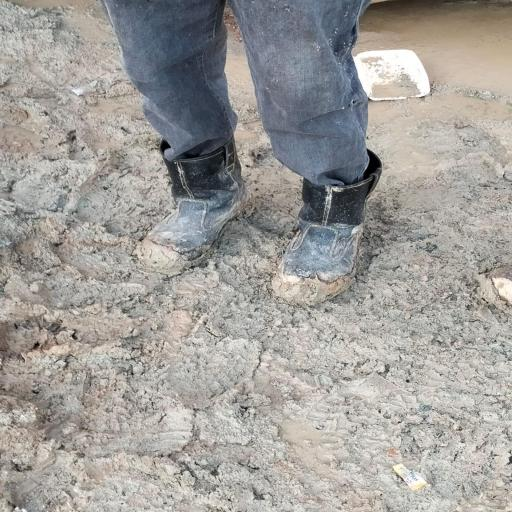safety_shoe: (140, 155, 246, 265), (276, 180, 374, 296)
